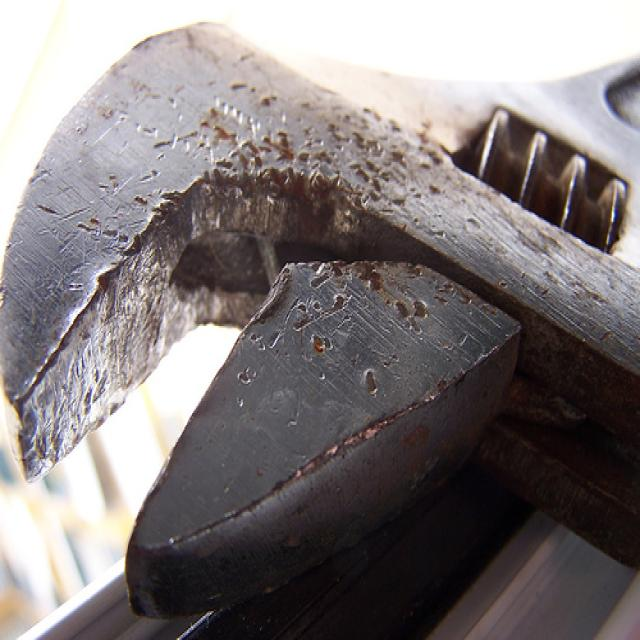wrench: (8, 10, 640, 628)
